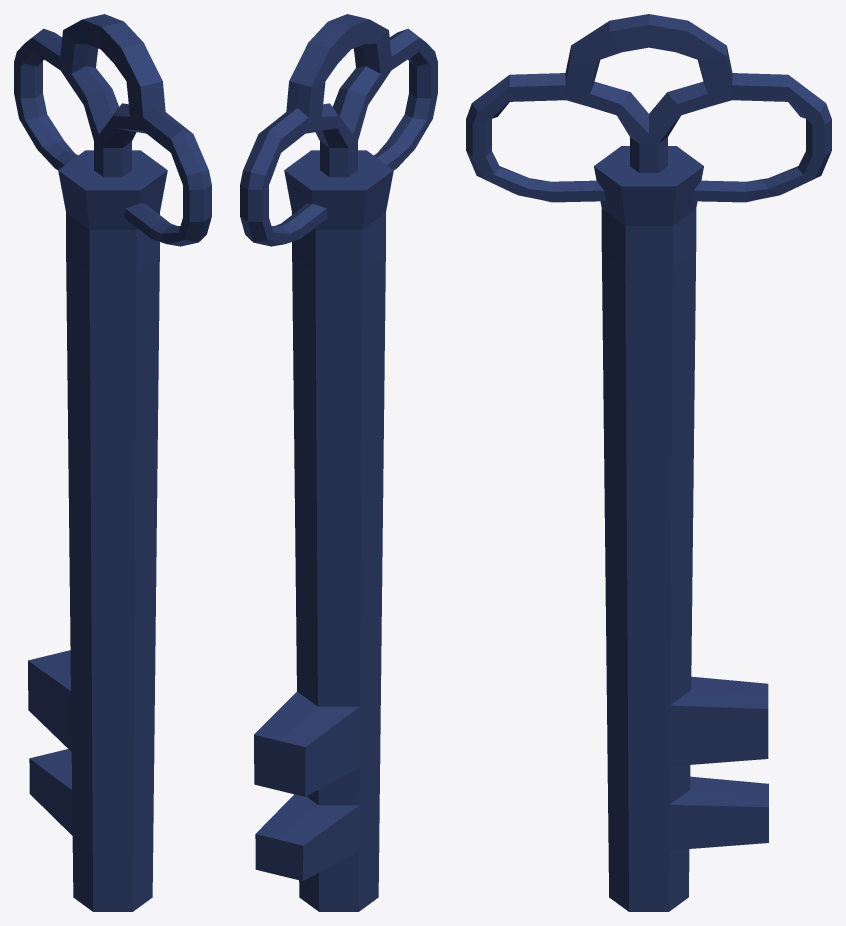
Rendered from Key2.fbx.
3 views of the same model, side by side, from view 1: azimuth 30°, elevation 25°; view 2: azimuth 150°, elevation 25°; view 3: azimuth 270°, elevation 25° (orthographic).
Parts seen in each view (by area): view 1: Cylinder.003, Cylinder.002; view 2: Cylinder.003, Cylinder.002; view 3: Cylinder.003, Cylinder.002.
Part boxes in pixels (<box>): Cylinder.003: <box>28,150,167,911</box>; Cylinder.002: <box>14,14,211,246</box>; Cylinder.003: <box>254,150,393,911</box>; Cylinder.002: <box>240,14,437,246</box>; Cylinder.003: <box>594,146,768,911</box>; Cylinder.002: <box>466,14,831,202</box>.
Size of the model in its own units: 0.0827 by 0.3167 by 0.8388.
